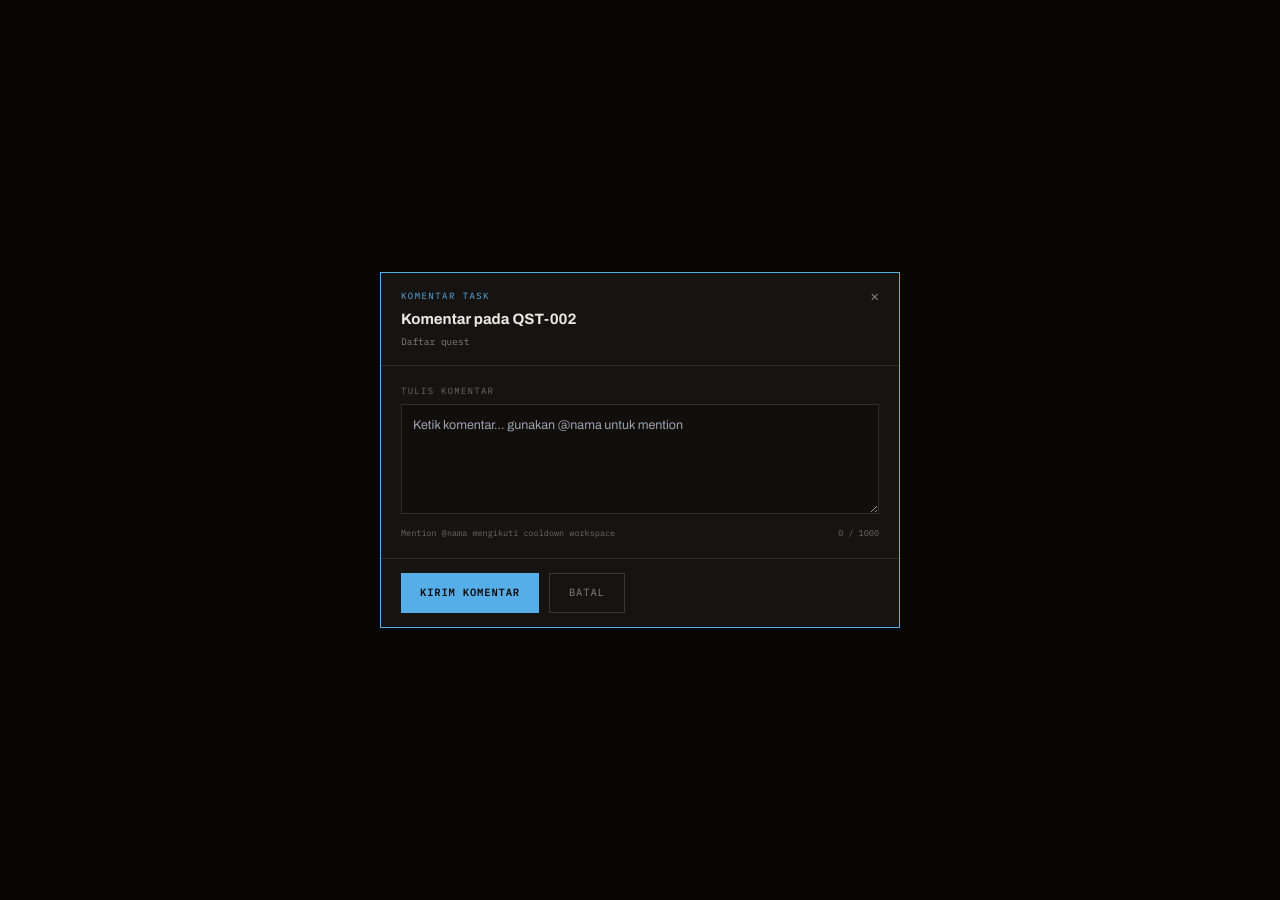
Test case: CommentModal › komentar kosong ditolak dengan pesan merah dan tidak terkirim
Click the button "KIRIM KOMENTAR" at (470, 593), box [401,573,539,613]
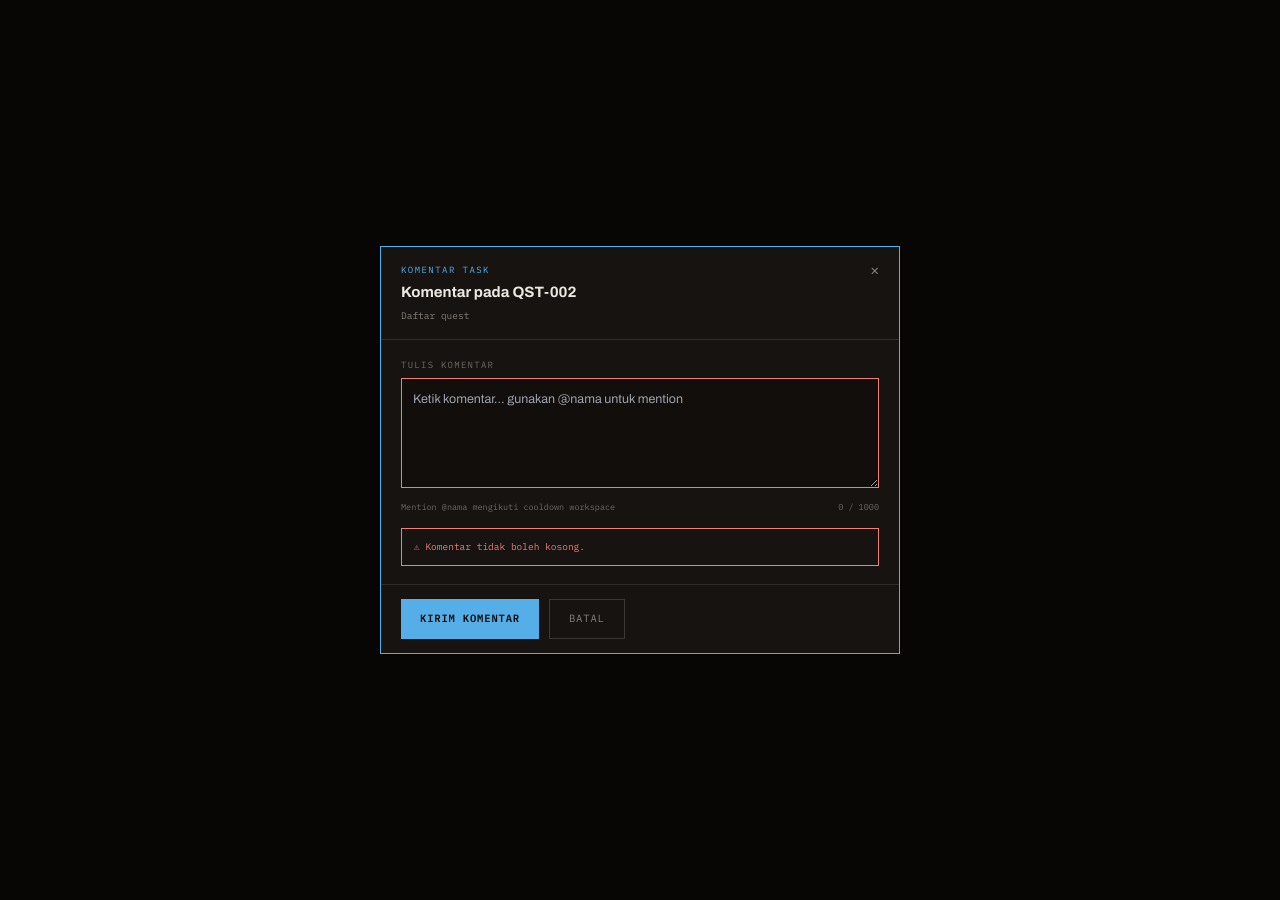
Expected: the text "⚠ Komentar tidak boleh kosong." is shown, [401,528,879,566]
